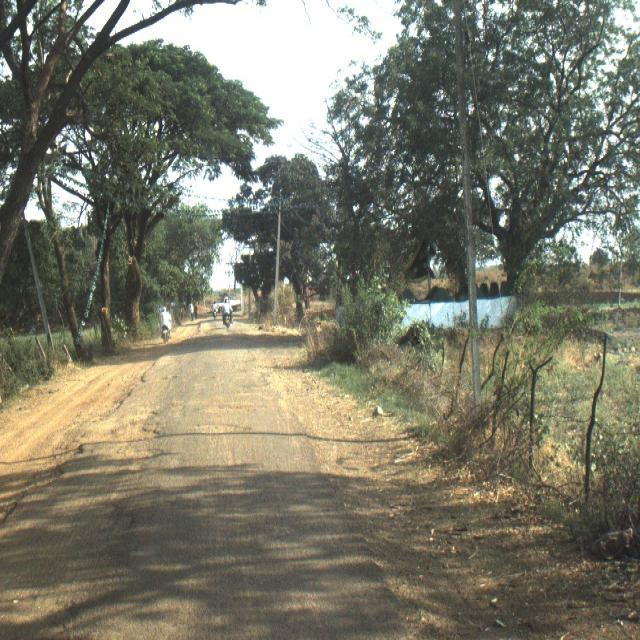Pothole: (75, 420, 171, 516), (197, 400, 277, 485)
